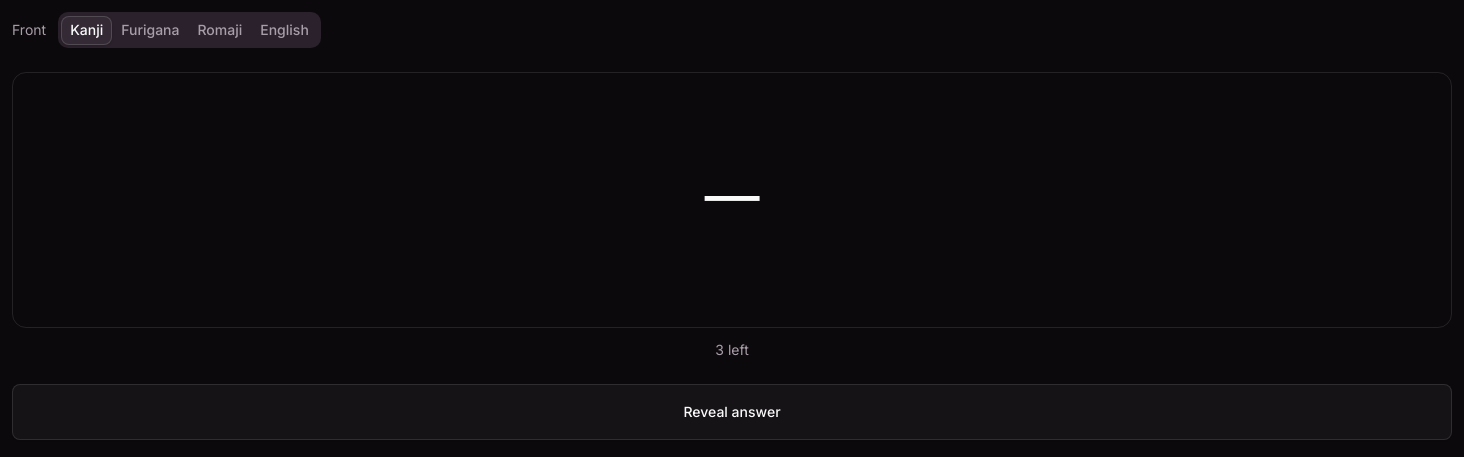
it: Flashcards › flipping › flips from the card itself as well as the button
Click the button "一". click: (98, 200)
box: [12, 72, 1452, 328]
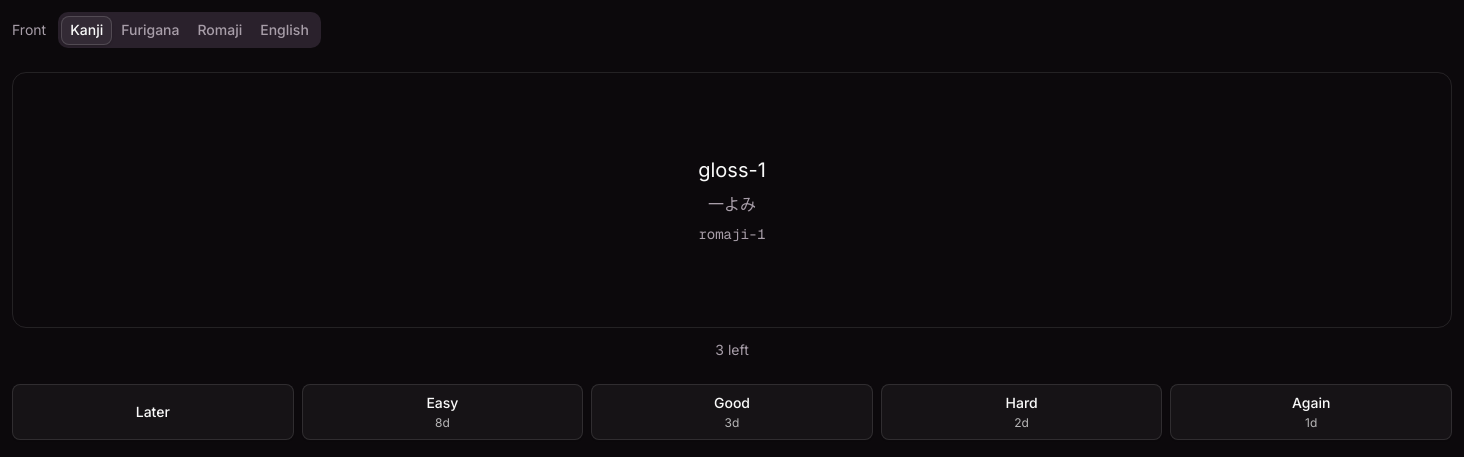
Expected: the text "gloss-1" is shown, [698, 156, 766, 184]
Click the button with aria-label "Flip back to the front". click: (98, 200)
box: [12, 72, 1452, 328]
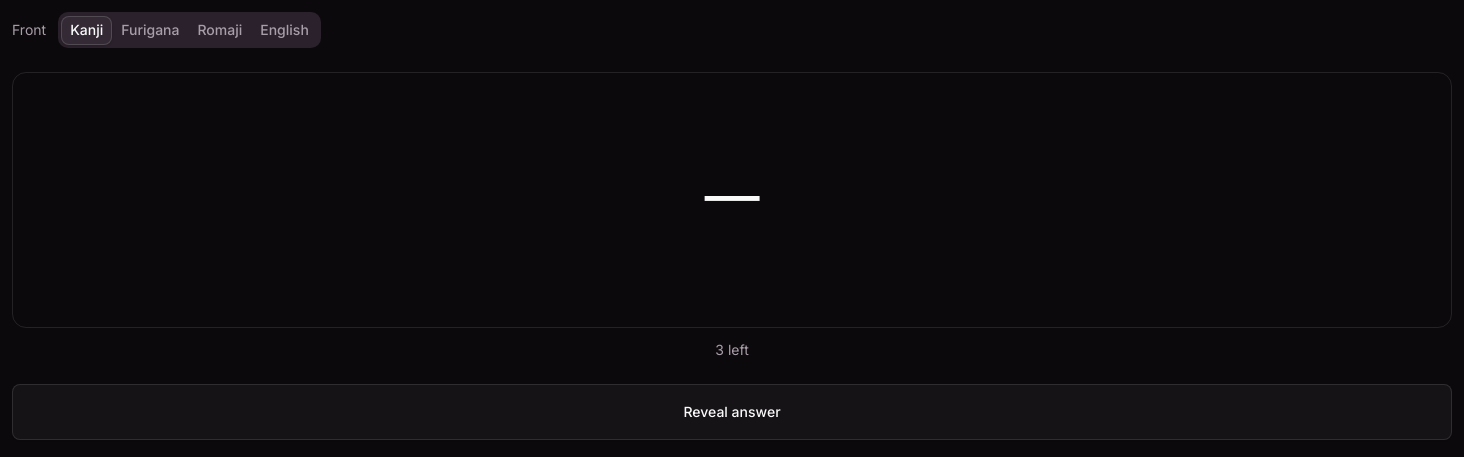
Expected: the text "gloss-1" is gone
